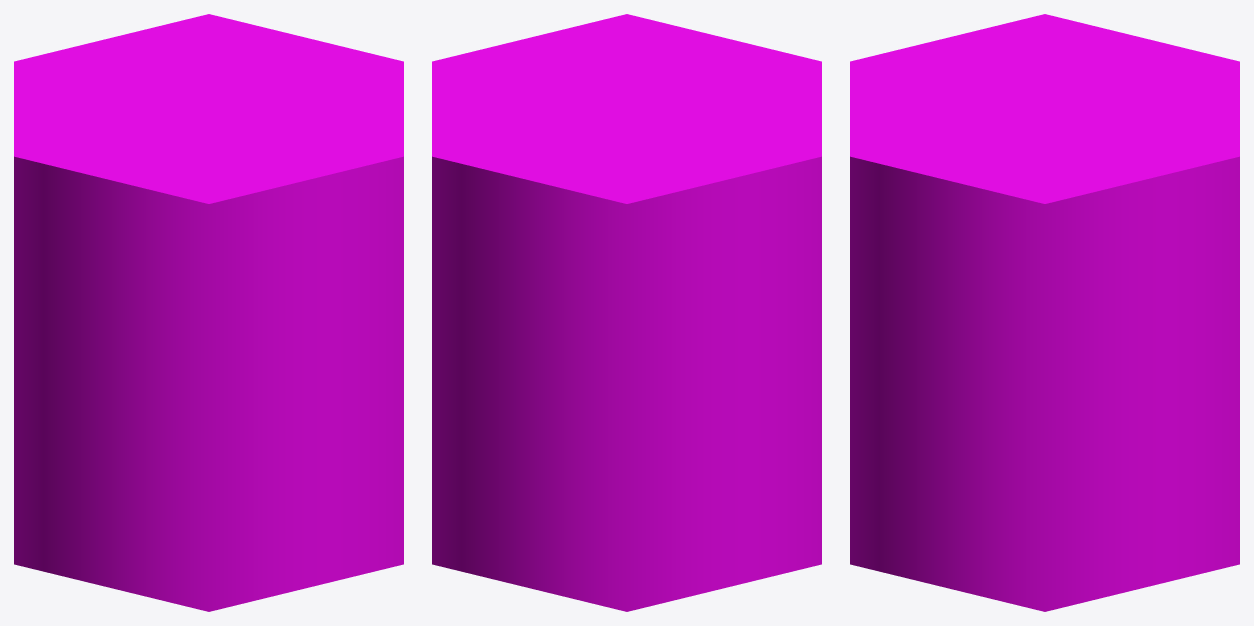
Rendered from Hexagono.glb.
3 views of the same model, side by side, from view 1: azimuth 30°, elevation 25°; view 2: azimuth 150°, elevation 25°; view 3: azimuth 270°, elevation 25° (orthographic).
Visible parts, largest first — view 1: Hexagono; view 2: Hexagono; view 3: Hexagono.
Part boxes in pixels (bbox=[...]): Hexagono: bbox=[14, 14, 403, 611]; Hexagono: bbox=[432, 14, 821, 611]; Hexagono: bbox=[850, 14, 1239, 611].
Bounding box in the file's own units: 0.762 × 0.762 × 0.6599.
